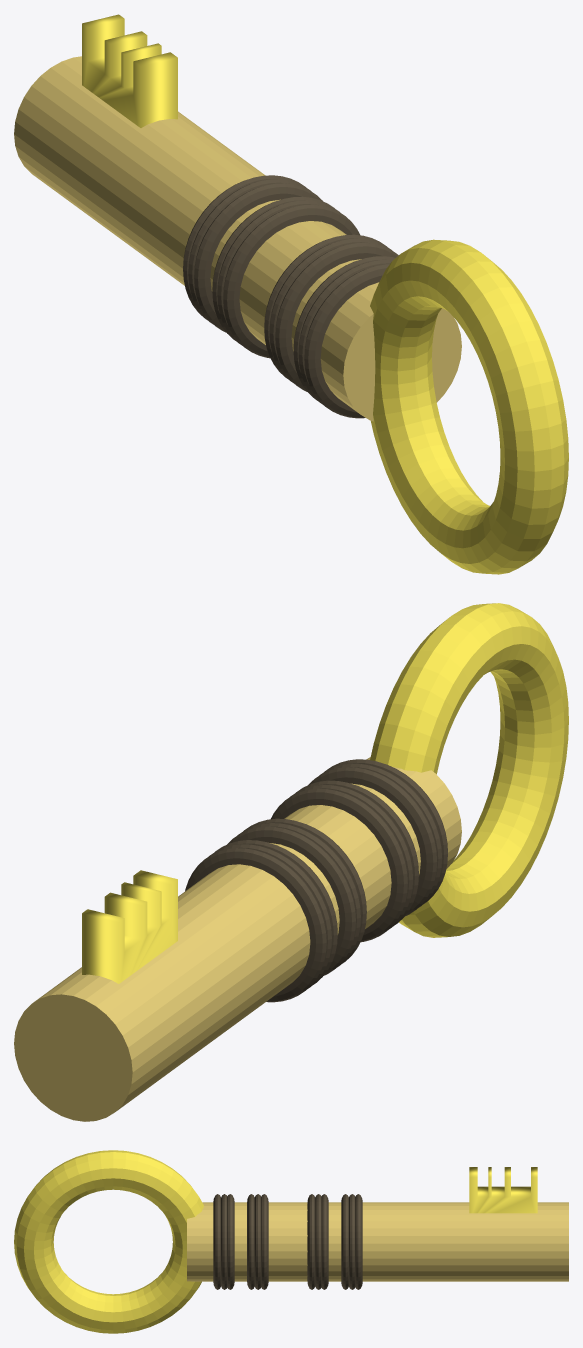
File: Key.fbx
3 views of the same model, one above another, from view 1: azimuth 30°, elevation 25°; view 2: azimuth 150°, elevation 25°; view 3: azimuth 270°, elevation 25° (orthographic). The views are drawn at different scales.
Parts seen in each view (by area): view 1: Torus, Cylinder, Cube, Torus.012, Torus.009, Torus.004, Torus.001, Torus.011, Torus.008, Torus.005, Torus.002, Torus.007 (+3 smaller); view 2: Cylinder, Torus, Cube, Torus.007, Torus.006, Torus.010, Torus.003, Torus.001, Torus.012, Torus.009, Torus.004, Torus.008 (+3 smaller); view 3: Cylinder, Torus, Cube, Torus.012, Torus.005, Torus.004, Torus.010, Torus.009, Torus.007, Torus.001, Torus.003, Torus.006 (+3 smaller).
Boxes of the visible parts, <box> form: Torus: <box>370,239,568,574</box>; Cylinder: <box>14,56,461,421</box>; Cube: <box>82,14,177,127</box>; Torus.012: <box>223,204,359,358</box>; Torus.009: <box>194,183,322,332</box>; Torus.004: <box>275,243,398,391</box>; Torus.001: <box>304,264,389,418</box>; Torus.011: <box>217,200,339,345</box>; Torus.008: <box>188,179,310,323</box>; Torus.005: <box>269,238,391,383</box>; Torus.002: <box>298,260,392,404</box>; Torus.007: <box>183,175,305,320</box>; Cylinder: <box>14,757,461,1121</box>; Torus: <box>370,603,568,937</box>; Cube: <box>82,870,177,983</box>; Torus.007: <box>185,848,326,1002</box>; Torus.006: <box>271,788,407,942</box>; Torus.010: <box>227,826,355,975</box>; Torus.003: <box>308,767,437,916</box>; Torus.001: <box>324,759,447,904</box>; Torus.012: <box>244,818,366,963</box>; Torus.009: <box>215,840,337,985</box>; Torus.004: <box>296,780,418,925</box>; Torus.008: <box>209,844,331,988</box>; Cylinder: <box>187,1202,568,1281</box>; Torus: <box>14,1150,203,1333</box>; Cube: <box>469,1167,537,1213</box>; Torus.012: <box>307,1194,315,1289</box>; Torus.005: <box>254,1194,261,1289</box>; Torus.004: <box>247,1194,254,1289</box>; Torus.010: <box>321,1194,328,1289</box>; Torus.009: <box>341,1194,348,1289</box>; Torus.007: <box>355,1194,362,1289</box>; Torus.001: <box>213,1194,220,1289</box>; Torus.003: <box>227,1194,234,1289</box>; Torus.006: <box>261,1194,268,1289</box>.
Size of the model in its own units: 121 by 250 by 698.
